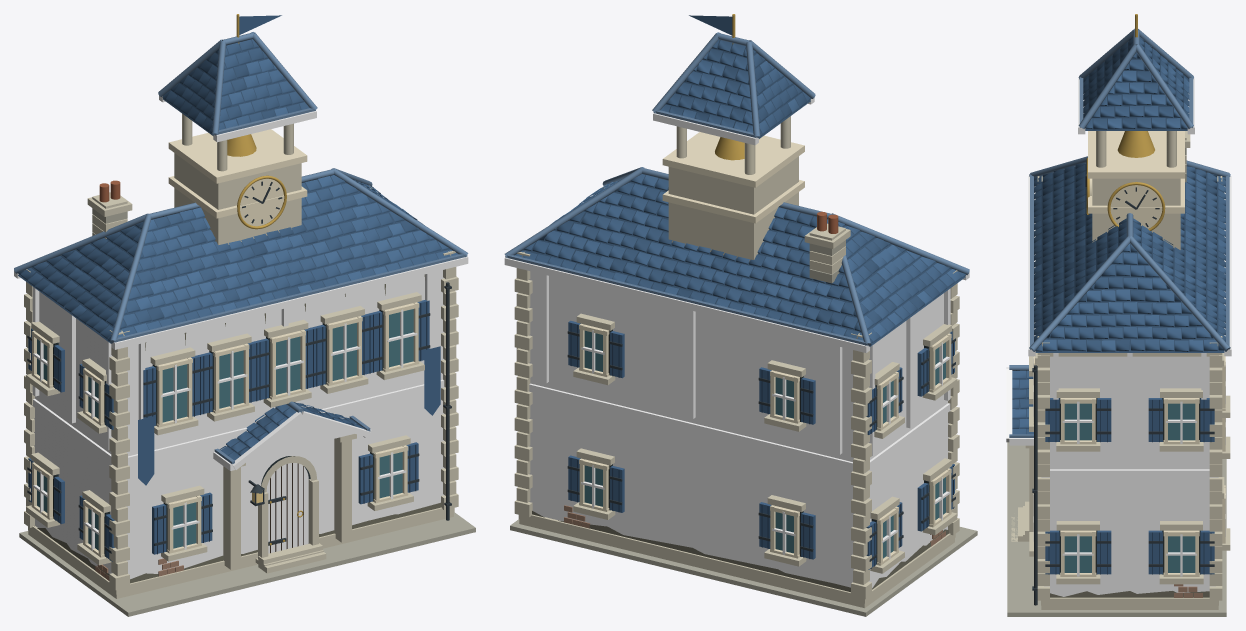
Rendered from guild.glb.
3 views of the same model, side by side, from view 1: azimuth 30°, elevation 25°; view 2: azimuth 150°, elevation 25°; view 3: azimuth 270°, elevation 25° (orthographic). The views are drawn at different scales.
Visible parts, largest first — view 1: SourceMesh_00005, SourceMesh_00108, SourceMesh_00000, SourceMesh_00206, SourceMesh_00103, SourceMesh_00085, SourceMesh_00088, SourceMesh_00267, SourceMesh_00104, SourceMesh_00006, SourceMesh_00084, SourceMesh_00259 (+27 smaller); view 2: SourceMesh_00005, SourceMesh_00108, SourceMesh_00085, SourceMesh_00206, SourceMesh_00100, SourceMesh_00000, SourceMesh_00088, SourceMesh_00084, SourceMesh_00006, SourceMesh_00101, SourceMesh_00001, SourceMesh_00102 (+10 smaller); view 3: SourceMesh_00108, SourceMesh_00005, SourceMesh_00206, SourceMesh_00000, SourceMesh_00088, SourceMesh_00085, SourceMesh_00107, SourceMesh_00103, SourceMesh_00100, SourceMesh_00006, SourceMesh_00084, SourceMesh_00700 (+40 smaller).
Part boxes in pixels (bbox=[...]): SourceMesh_00005: bbox=[34, 270, 444, 579]; SourceMesh_00108: bbox=[17, 175, 458, 341]; SourceMesh_00000: bbox=[19, 512, 475, 616]; SourceMesh_00206: bbox=[162, 39, 309, 133]; SourceMesh_00103: bbox=[120, 176, 450, 332]; SourceMesh_00085: bbox=[174, 153, 301, 244]; SourceMesh_00088: bbox=[168, 129, 307, 183]; SourceMesh_00267: bbox=[266, 463, 308, 553]; SourceMesh_00104: bbox=[111, 256, 468, 349]; SourceMesh_00006: bbox=[28, 507, 454, 594]; SourceMesh_00084: bbox=[29, 379, 444, 466]; SourceMesh_00259: bbox=[219, 402, 364, 460]; SourceMesh_00005: bbox=[529, 271, 949, 588]; SourceMesh_00108: bbox=[515, 174, 965, 343]; SourceMesh_00085: bbox=[668, 156, 798, 261]; SourceMesh_00206: bbox=[660, 40, 811, 136]; SourceMesh_00100: bbox=[522, 175, 861, 338]; SourceMesh_00000: bbox=[510, 519, 977, 616]; SourceMesh_00088: bbox=[662, 132, 804, 187]; SourceMesh_00084: bbox=[528, 383, 954, 472]; SourceMesh_00006: bbox=[518, 514, 955, 603]; SourceMesh_00101: bbox=[504, 257, 869, 352]; SourceMesh_00001: bbox=[519, 519, 954, 608]; SourceMesh_00102: bbox=[505, 255, 867, 345]; SourceMesh_00108: bbox=[1034, 161, 1225, 351]; SourceMesh_00005: bbox=[1044, 356, 1215, 596]; SourceMesh_00206: bbox=[1083, 37, 1189, 129]; SourceMesh_00000: bbox=[1007, 442, 1226, 616]; SourceMesh_00088: bbox=[1088, 131, 1184, 178]; SourceMesh_00085: bbox=[1092, 178, 1180, 249]; SourceMesh_00107: bbox=[1035, 244, 1224, 352]; SourceMesh_00103: bbox=[1035, 163, 1126, 334]; SourceMesh_00100: bbox=[1133, 170, 1224, 334]; SourceMesh_00006: bbox=[1041, 597, 1218, 605]; SourceMesh_00084: bbox=[1041, 469, 1218, 477]; SourceMesh_00700: bbox=[1110, 185, 1161, 228].
Bounding box in the file's own units: 9.67 × 13.25 × 5.23.
